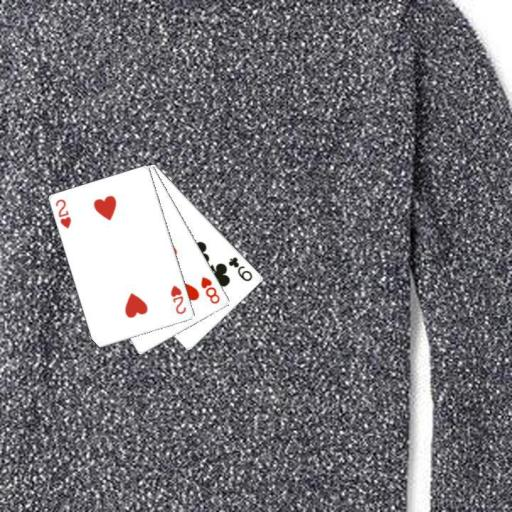2H: (168, 282, 188, 316), (53, 197, 73, 231)
8H: (198, 273, 222, 306)
9C: (226, 254, 255, 283)
